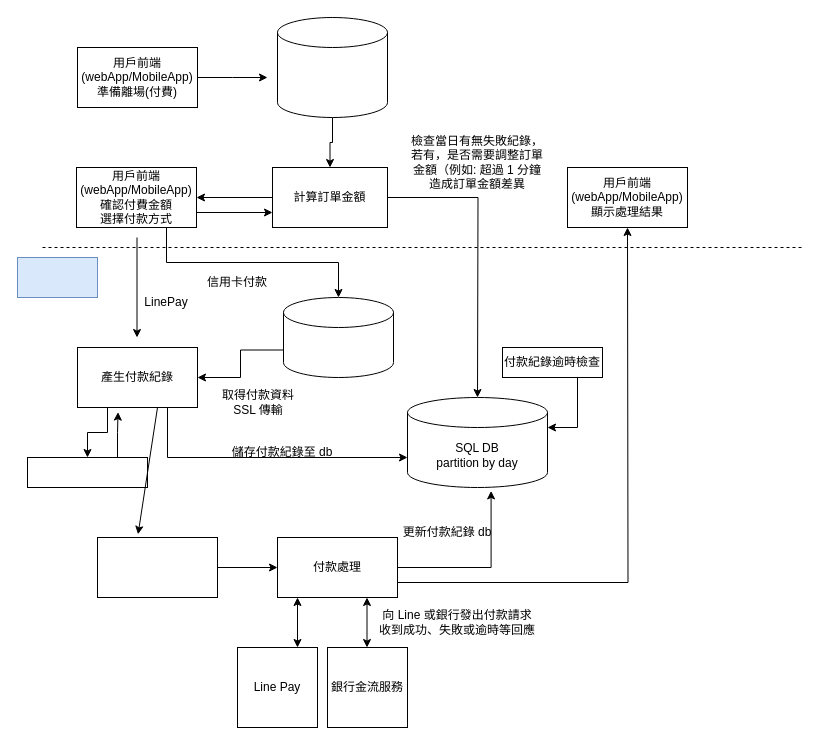
The diagram is 821 pixels wide and 745 high, and some of its shapes have lost their labels. Here are the shapes that lost their labels. From the top down, the centre of each, then its label:
(x=332, y=67): 停車資料 db -停車場 -停車時間 -費率
(x=57, y=277): 結帳系統
(x=338, y=337): 用戶信用卡 db SQL
(x=87, y=472): transaction ID 產生器
(x=157, y=567): load balancer
